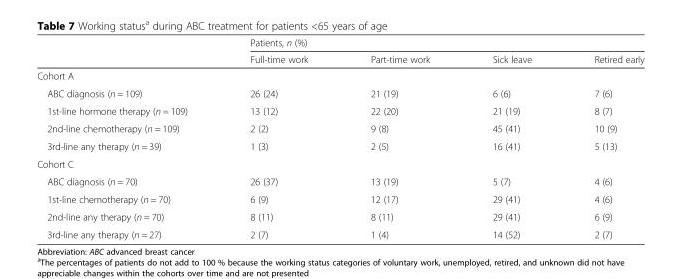table: (36, 36, 643, 239)
table column: (36, 36, 218, 239), (338, 36, 460, 239), (218, 36, 338, 239), (460, 36, 562, 239), (562, 36, 643, 239)
table column header: (36, 36, 643, 67)
table projected row header: (36, 154, 643, 172), (36, 67, 643, 84)
table row: (36, 101, 643, 119), (36, 119, 643, 137), (36, 154, 643, 172), (36, 172, 643, 190), (36, 207, 643, 225), (36, 50, 643, 67), (36, 67, 643, 84), (36, 84, 643, 101), (36, 137, 643, 154), (36, 190, 643, 207), (36, 36, 643, 50), (36, 225, 643, 239)
table spanning cell: (218, 36, 643, 50)
